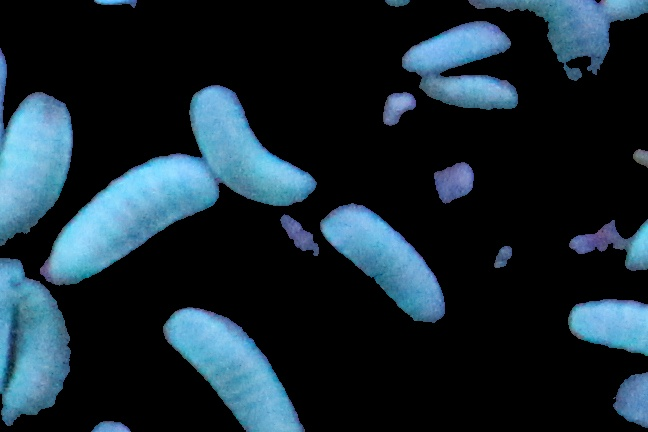larvae: (40, 155, 219, 285), (161, 308, 308, 432), (188, 85, 316, 206), (320, 200, 445, 322), (1, 93, 82, 263), (469, 1, 611, 80), (1, 277, 72, 428), (566, 291, 648, 363), (396, 23, 511, 72), (412, 74, 521, 115)
